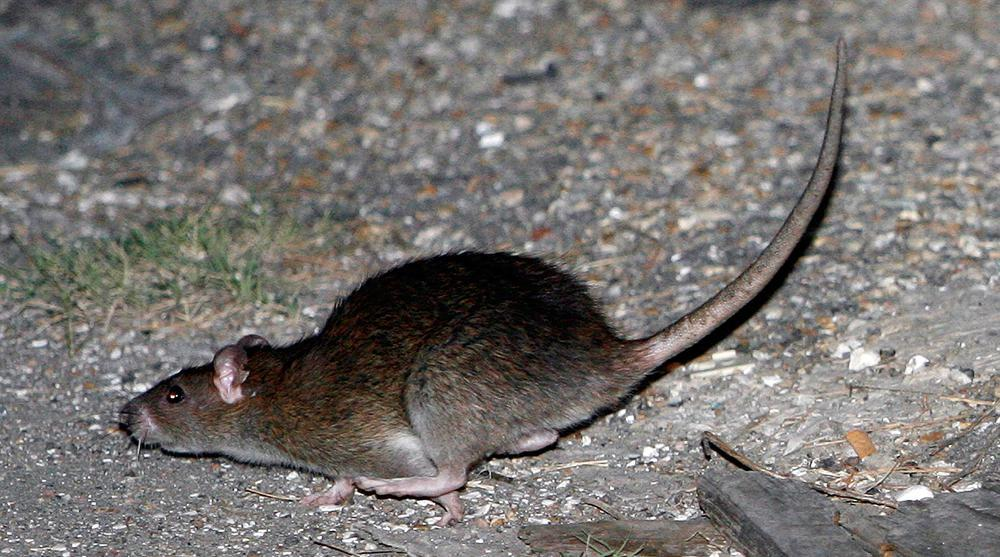rat: (120, 36, 848, 528)
